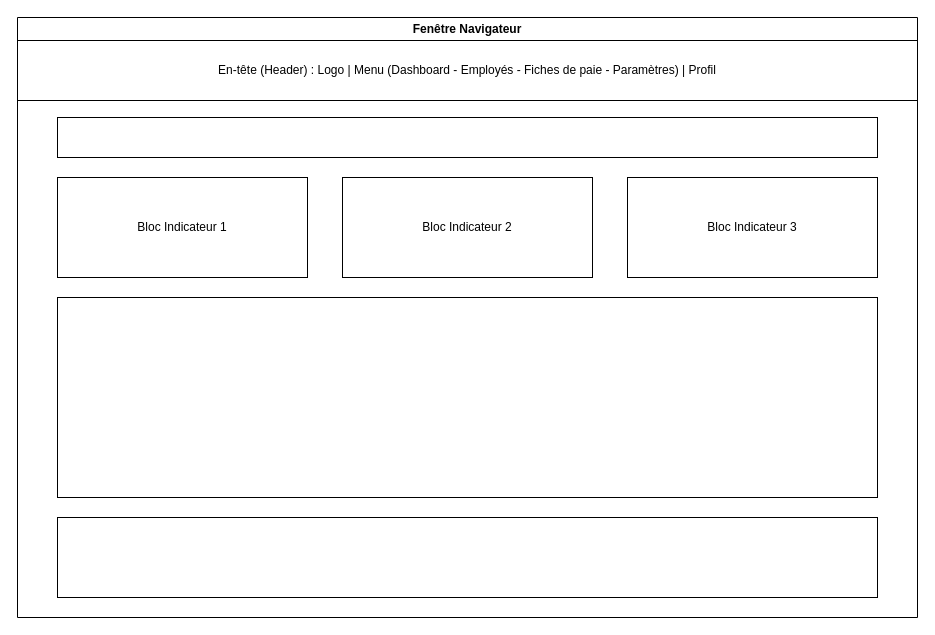
This 935x635 diagram has some shape labels left out. Here are the shapes that lost their labels. From the top down, the centre of each, then its label:
At (467,137): "Titre de la page (Dashboard)".
At (467,397): "Zone Graphique Principal".
At (467,557): "Liste / Tableau (Activités récentes)".
